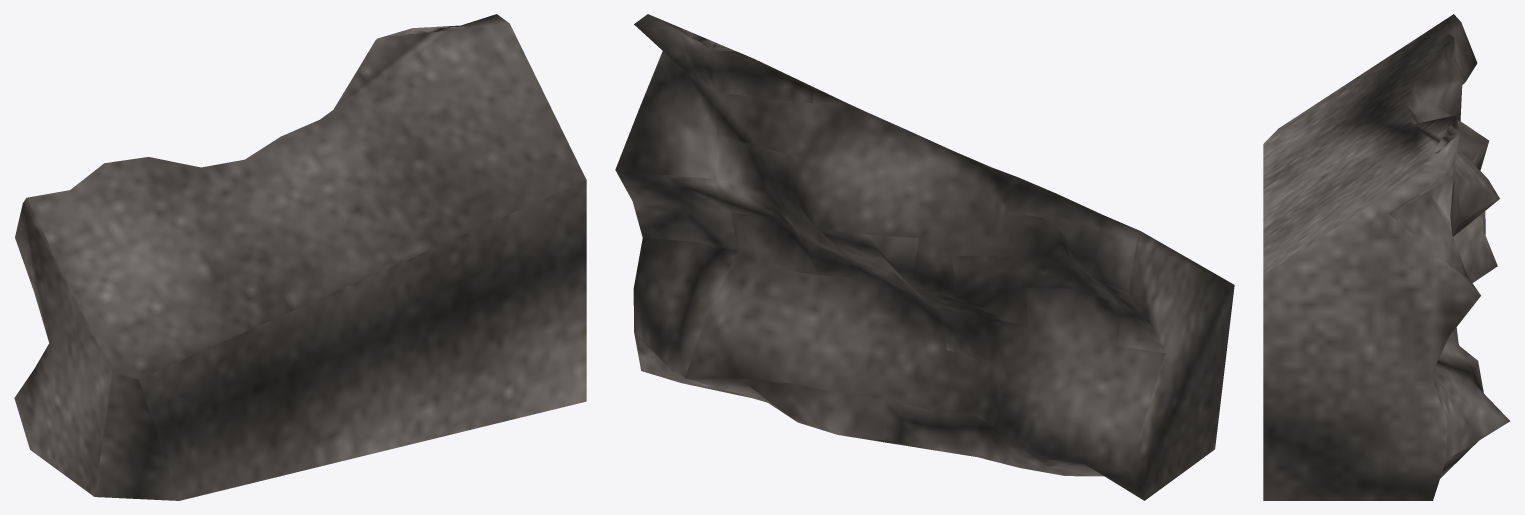
The model's file is cliff_face_1.glb.
3 views of the same model, side by side, from view 1: azimuth 30°, elevation 25°; view 2: azimuth 150°, elevation 25°; view 3: azimuth 270°, elevation 25° (orthographic). The views are drawn at different scales.
Parts seen in each view (by area): view 1: cliff_face_1; view 2: cliff_face_1; view 3: cliff_face_1.
Boxes of the visible parts, <box> form: cliff_face_1: <box>14,14,586,500</box>; cliff_face_1: <box>615,14,1234,500</box>; cliff_face_1: <box>1263,14,1509,500</box>.
Size of the model in its own units: 8.5 by 5.6 by 3.82.
Materials: 1 (1 with a texture image).
